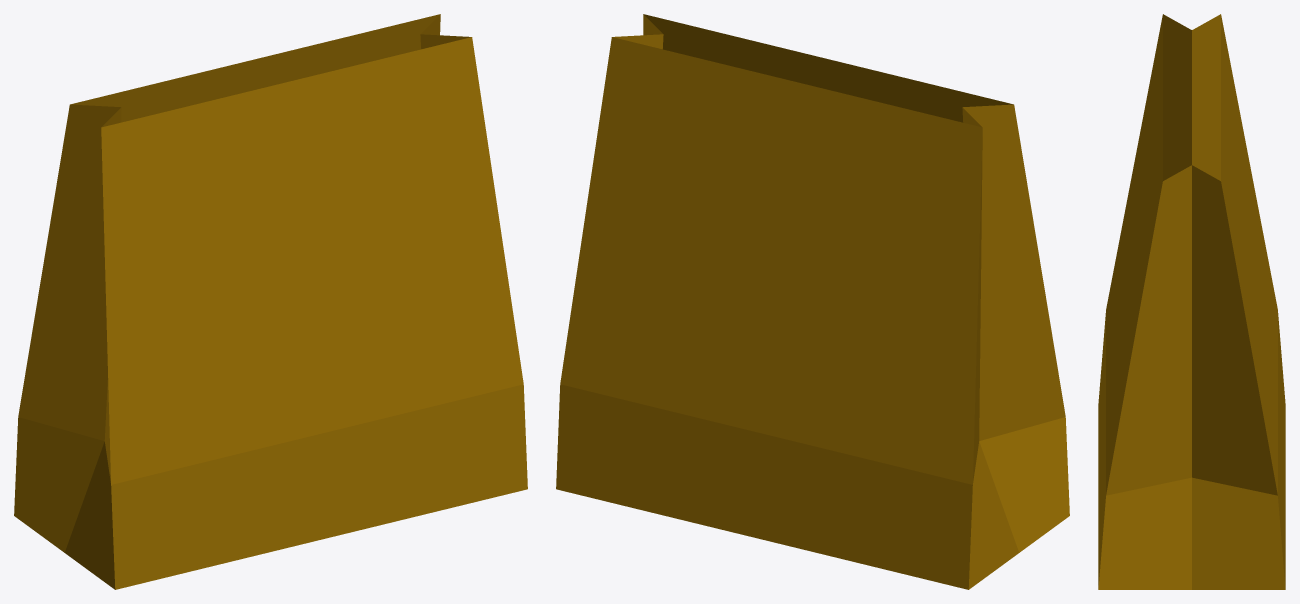
The model's file is PaperBag.fbx.
3 views of the same model, side by side, from view 1: azimuth 30°, elevation 25°; view 2: azimuth 150°, elevation 25°; view 3: azimuth 270°, elevation 25° (orthographic). The views are drawn at different scales.
Visible parts, largest first — view 1: Cube; view 2: Cube; view 3: Cube.
Boxes of the visible parts, x1=… form: Cube: x1=14, y1=14, x2=527, y2=589; Cube: x1=556, y1=14, x2=1069, y2=589; Cube: x1=1098, y1=14, x2=1285, y2=589.
Bounding box in the file's own units: 196 × 196 × 83.18.
